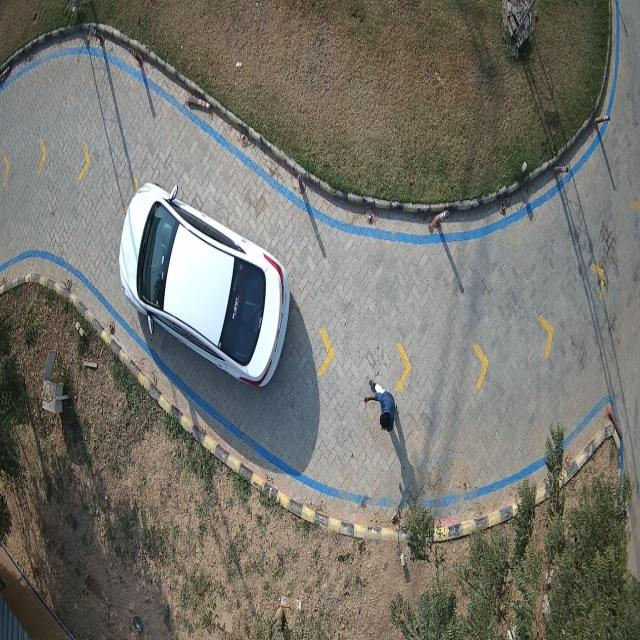car: (118, 185, 291, 388)
